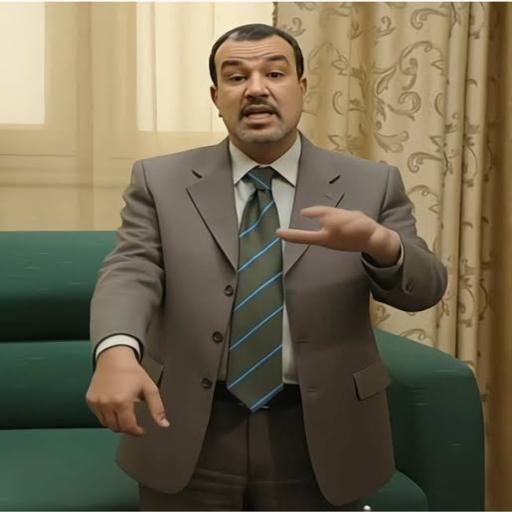slimane: (211, 27, 306, 163)
